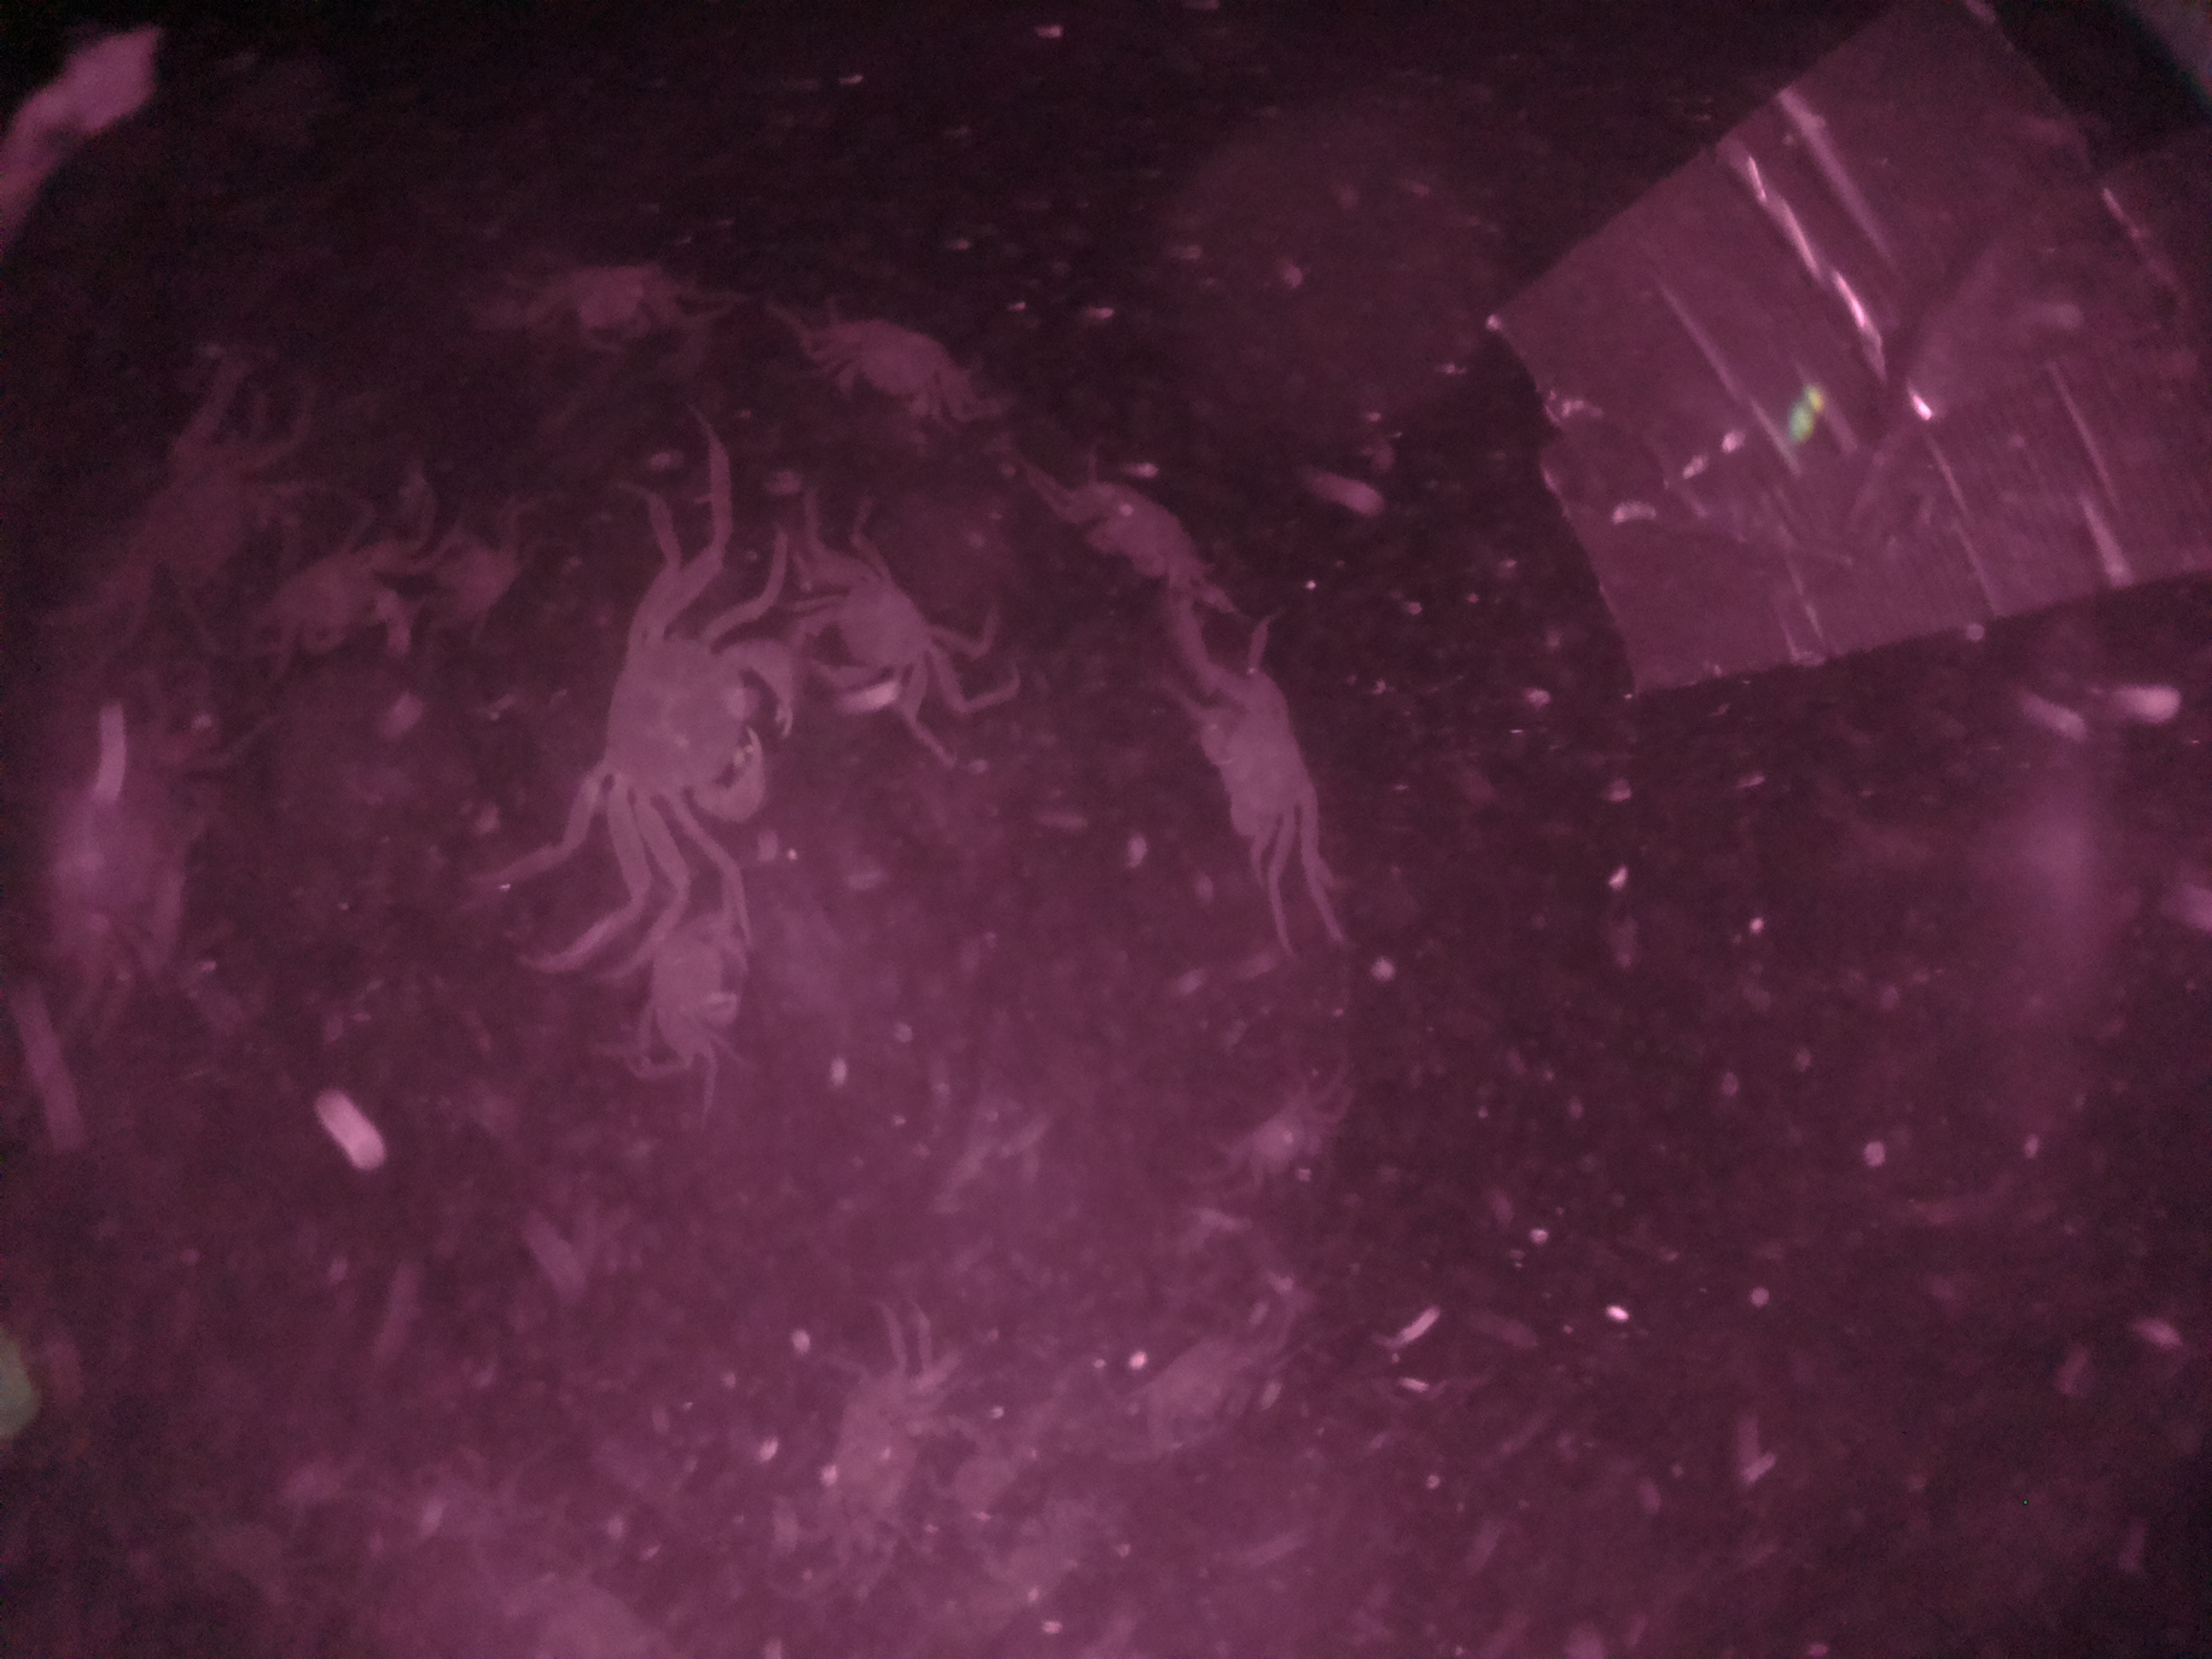Crab: (566, 603, 819, 850), (1165, 673, 1345, 884), (791, 563, 998, 720), (805, 310, 977, 425)
